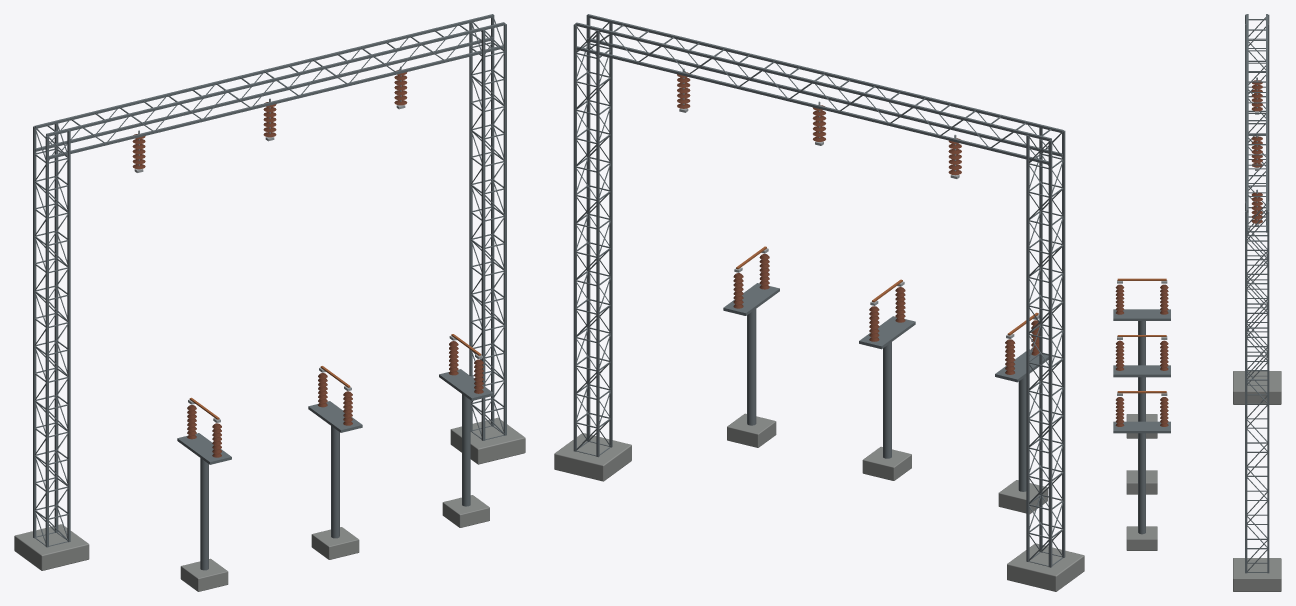
The model's file is hv-bay.glb.
The picture shows the model from 3 angles, left to right: view 1: azimuth 30°, elevation 25°; view 2: azimuth 150°, elevation 25°; view 3: azimuth 270°, elevation 25°; orthographic projection. The views are drawn at different scales.
Visible parts, largest first — view 1: 出线间隔; view 2: 出线间隔; view 3: 出线间隔.
Boxes of the visible parts, x1,y1,x2,y2 form: 出线间隔: (14,14,525,591); 出线间隔: (554,14,1084,591); 出线间隔: (1113,14,1281,591).
Bounding box in the file's own units: 11.1 × 9.38 × 3.8.
